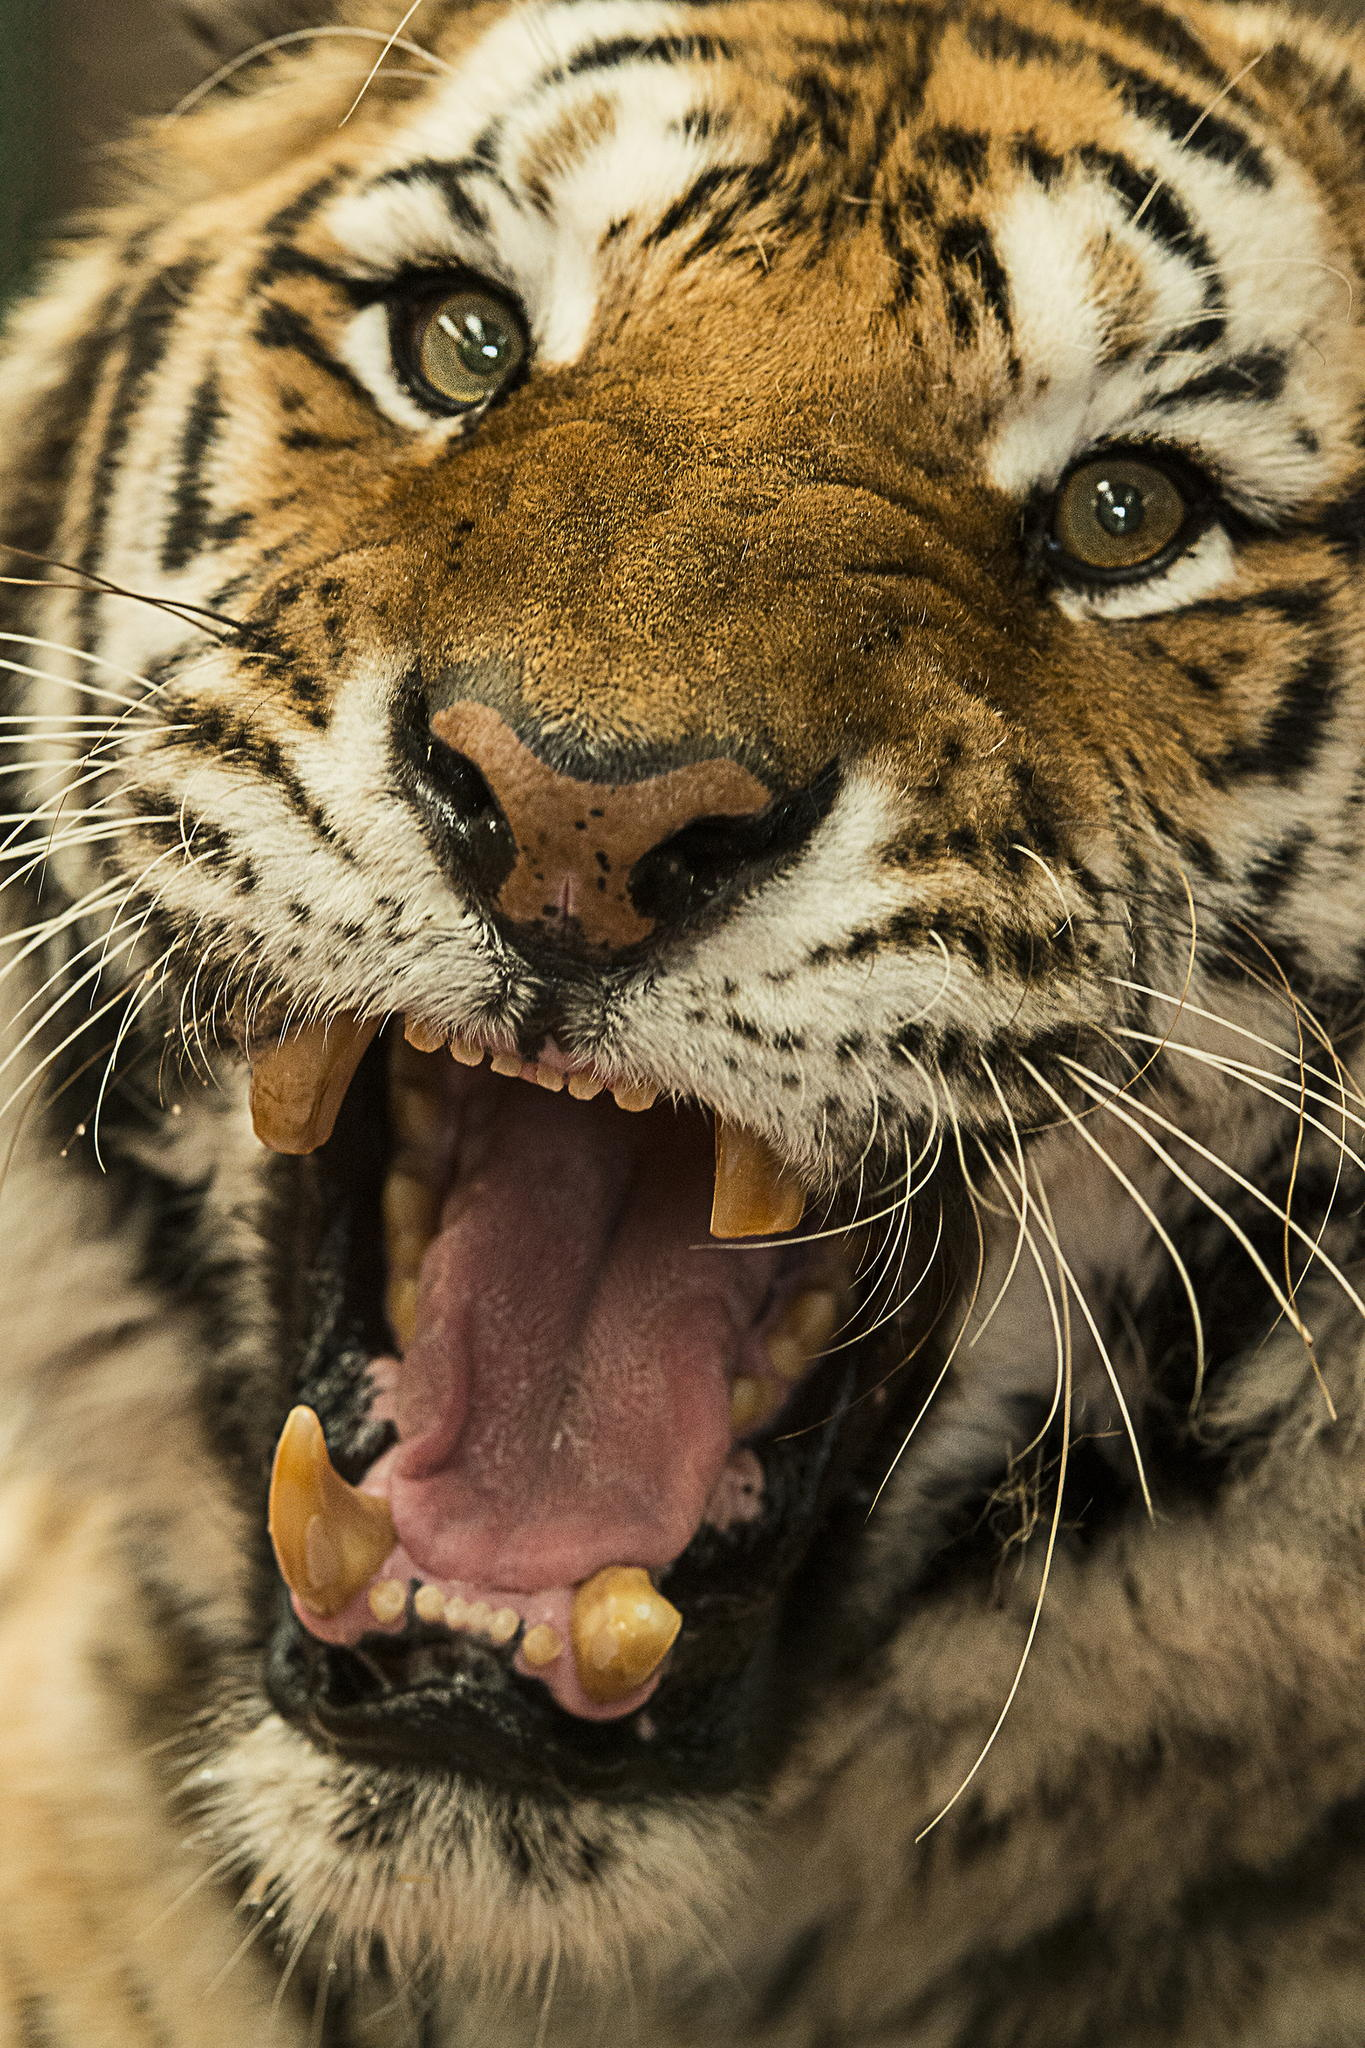tiger: (78, 40, 1312, 1896)
